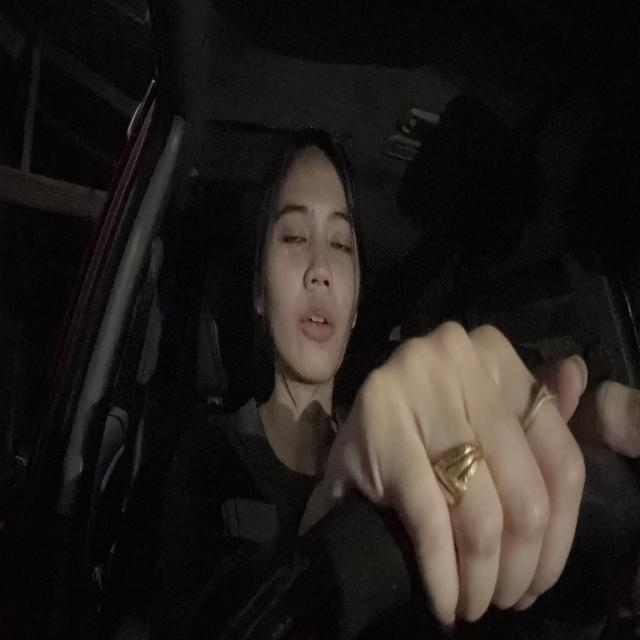close: (268, 202, 314, 260), (330, 208, 356, 263)
